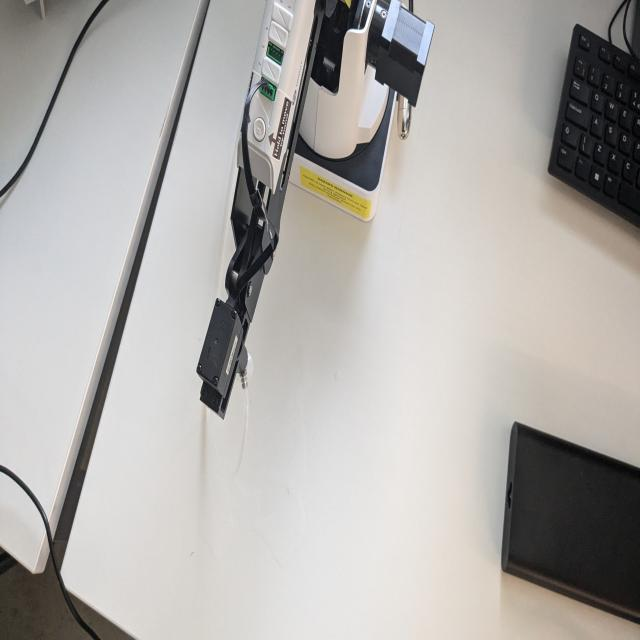Robot-end-effector-HF8z: (190, 294, 256, 424)
